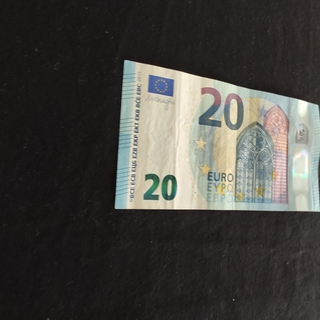20EUROFront: (114, 58, 320, 213)
